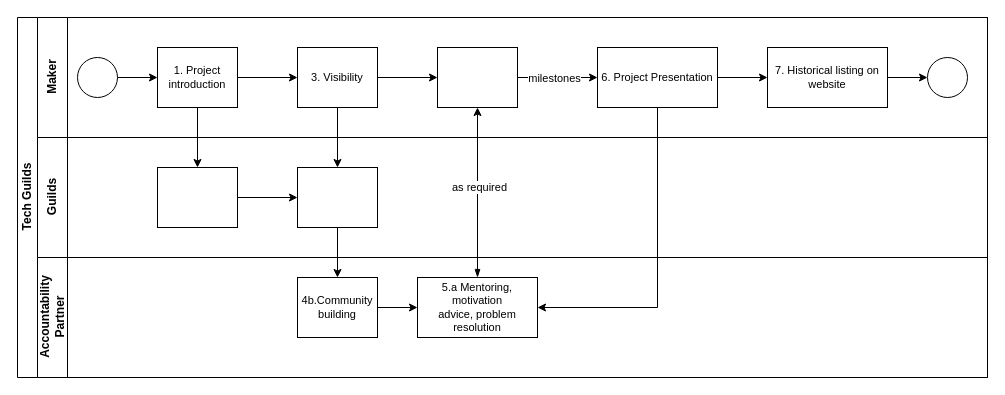
The diagram is 1005 pixels wide and 395 high, and some of its shapes have lost their labels. The centre of each missing label's shape, as x and y in pixels:
2. Guild placement: (x=197, y=197)
4a.AP search: (x=337, y=197)
5.b Project build: (x=477, y=77)
End: (x=947, y=77)
Start: (x=97, y=77)
